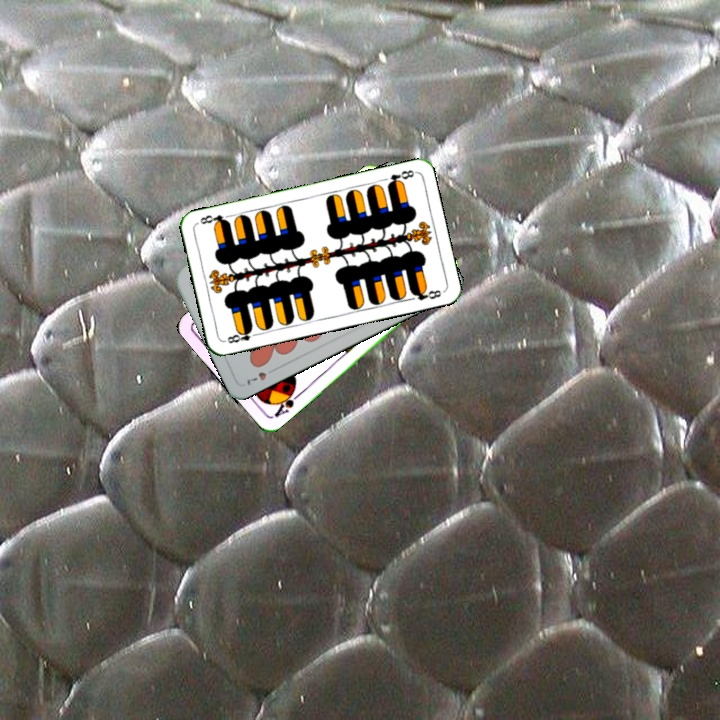E8: (223, 324, 261, 346), (383, 166, 418, 189)
H7: (241, 364, 279, 388)
SA: (268, 385, 302, 420)
